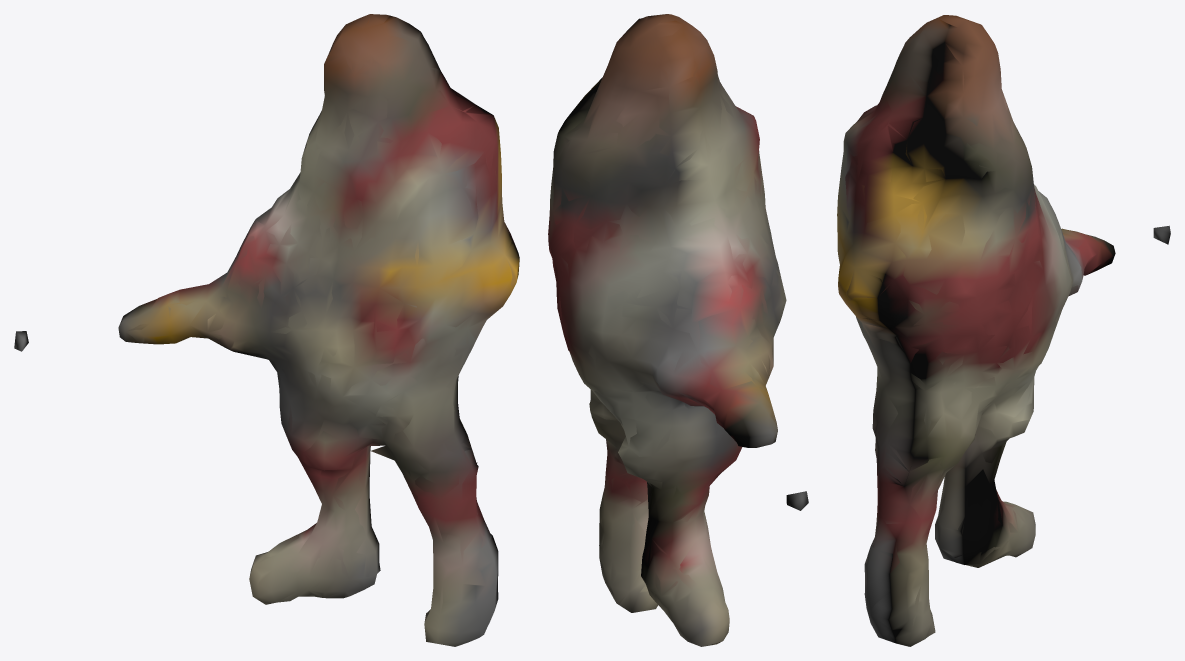
The model's file is boris.glb.
3 views of the same model, side by side, from view 1: azimuth 30°, elevation 25°; view 2: azimuth 150°, elevation 25°; view 3: azimuth 270°, elevation 25° (orthographic). The views are drawn at different scales.
Parts seen in each view (by area): view 1: boris; view 2: boris; view 3: boris.
Part boxes in pixels (left/top/right/bottom): boris: left=14, top=14, right=519, bottom=646; boris: left=548, top=14, right=808, bottom=646; boris: left=837, top=15, right=1170, bottom=646.
Size of the model in its own units: 1.36 by 2.23 by 1.12.
